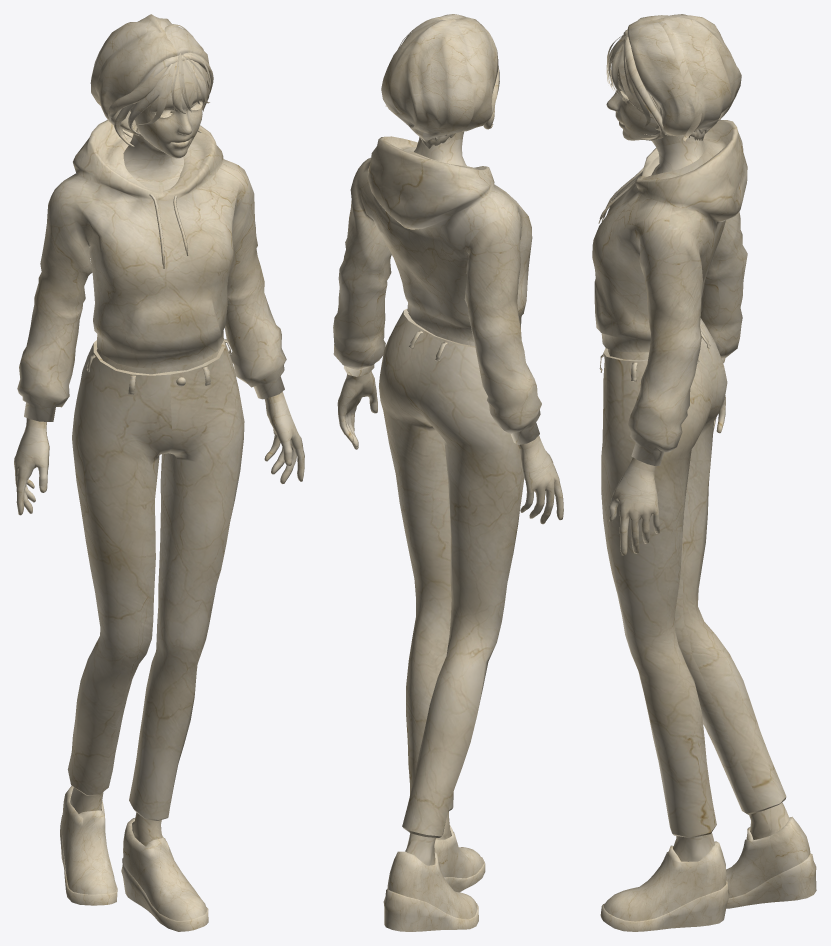
The model's file is Sample_Avatar_W_005.fbx.
3 renders of one model, left to right at view 1: azimuth 30°, elevation 25°; view 2: azimuth 150°, elevation 25°; view 3: azimuth 270°, elevation 25°, orthographic. The views are drawn at different scales.
Visible parts, largest first — view 1: Sample_Avatar_W_005; view 2: Sample_Avatar_W_005; view 3: Sample_Avatar_W_005.
Part boxes in pixels (box(x1,y1,x2,y2)): Sample_Avatar_W_005: box(14, 14, 304, 931); Sample_Avatar_W_005: box(333, 14, 563, 931); Sample_Avatar_W_005: box(592, 14, 816, 931).
Bounding box in the file's own units: 0.5122 × 1.71 × 0.3853.
